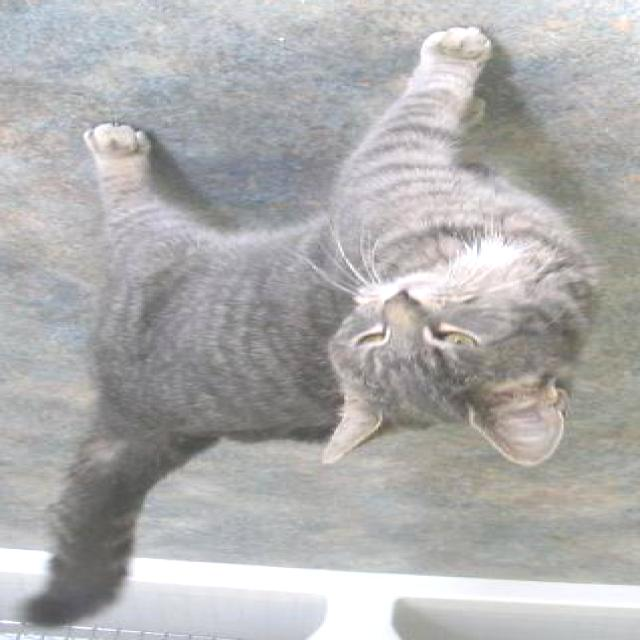Kucing: (3, 6, 608, 628)
